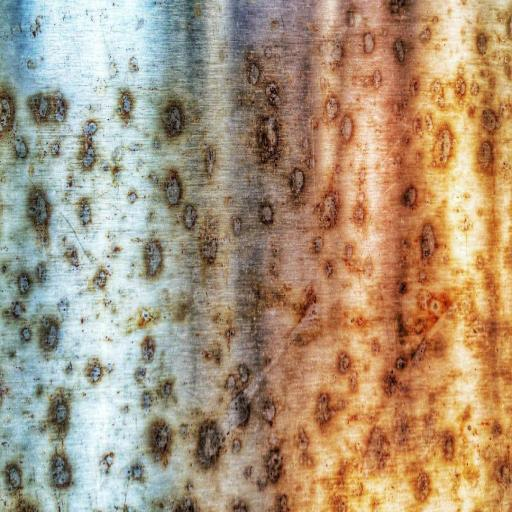corrosion: (27, 7, 511, 511)
